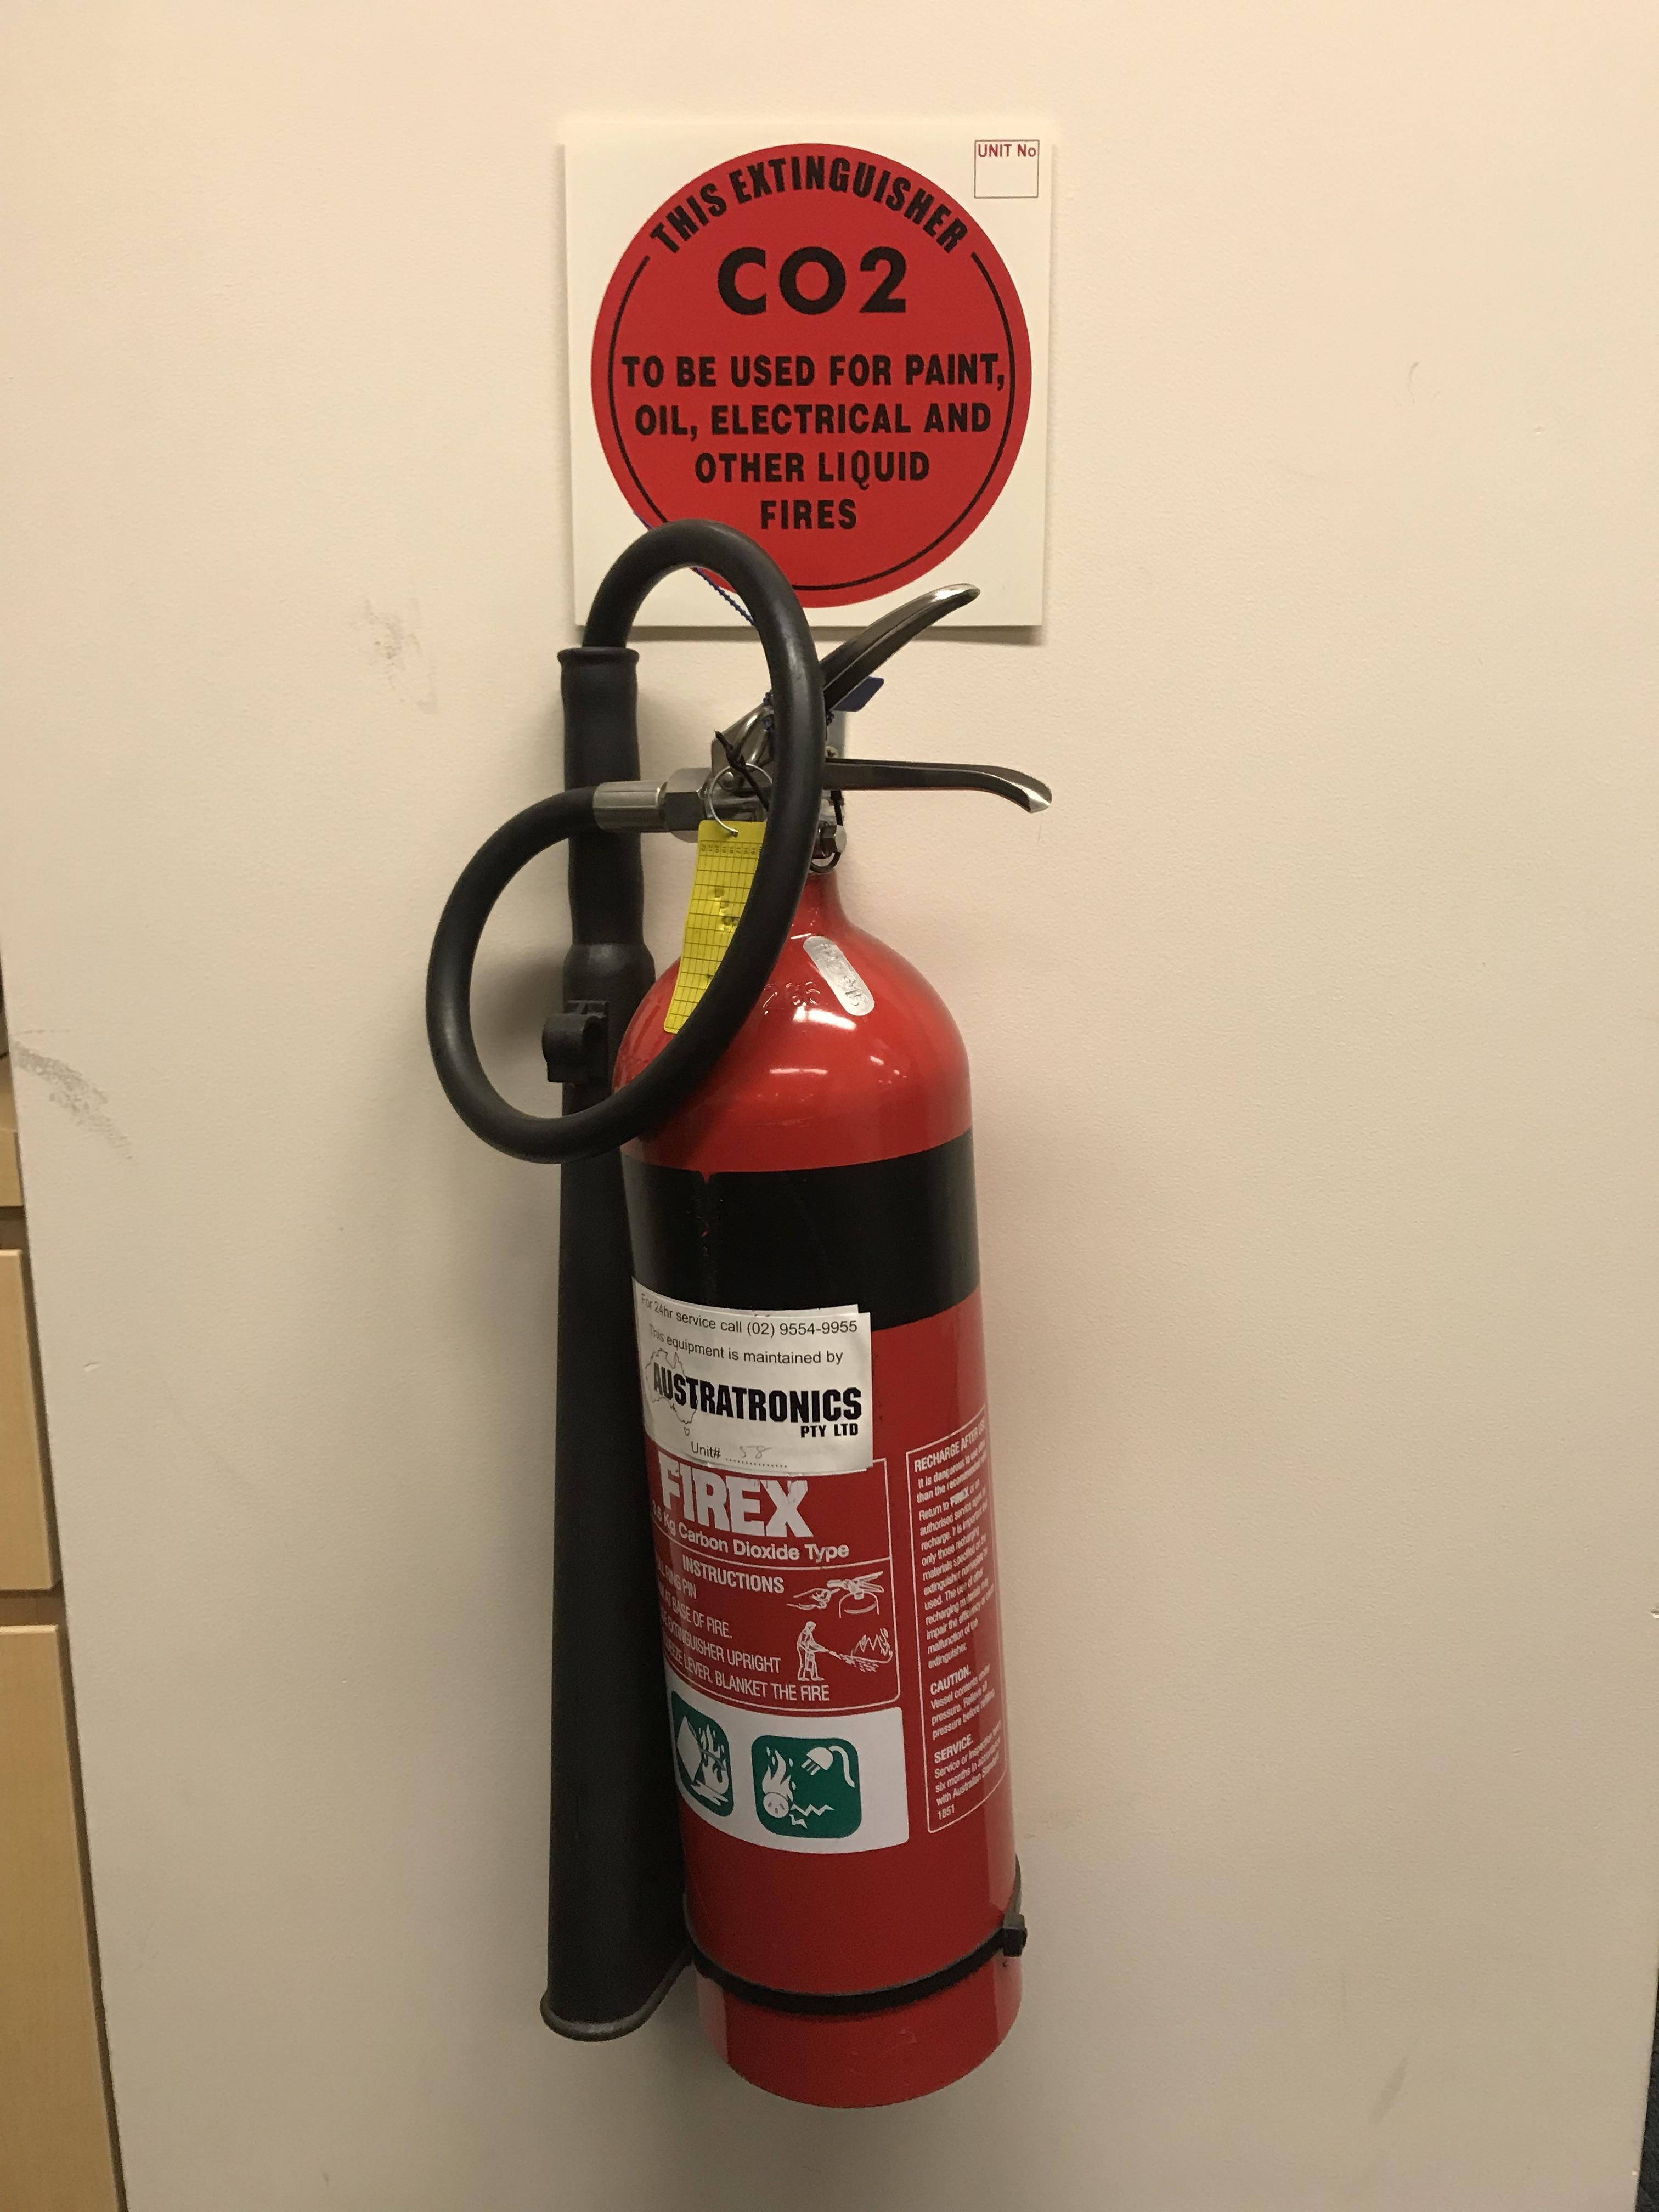Fire Extinguisher: (401, 434, 1131, 2167)
